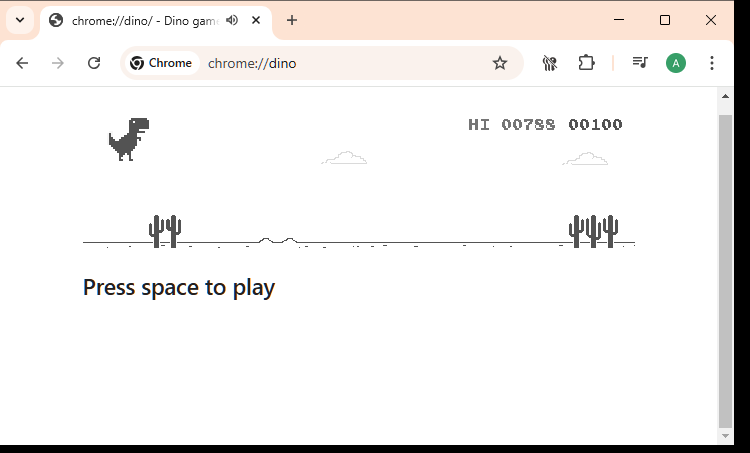cactus: (165, 213, 182, 250), (148, 214, 165, 249), (585, 214, 602, 249), (602, 214, 619, 249), (568, 214, 585, 248)
dino: (108, 117, 150, 162)
